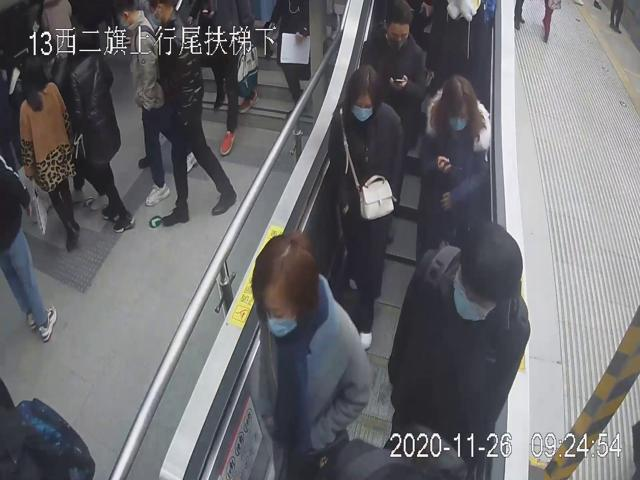person: (385, 220, 532, 474), (251, 227, 374, 478), (326, 62, 407, 350), (414, 70, 490, 264), (357, 0, 427, 145)
